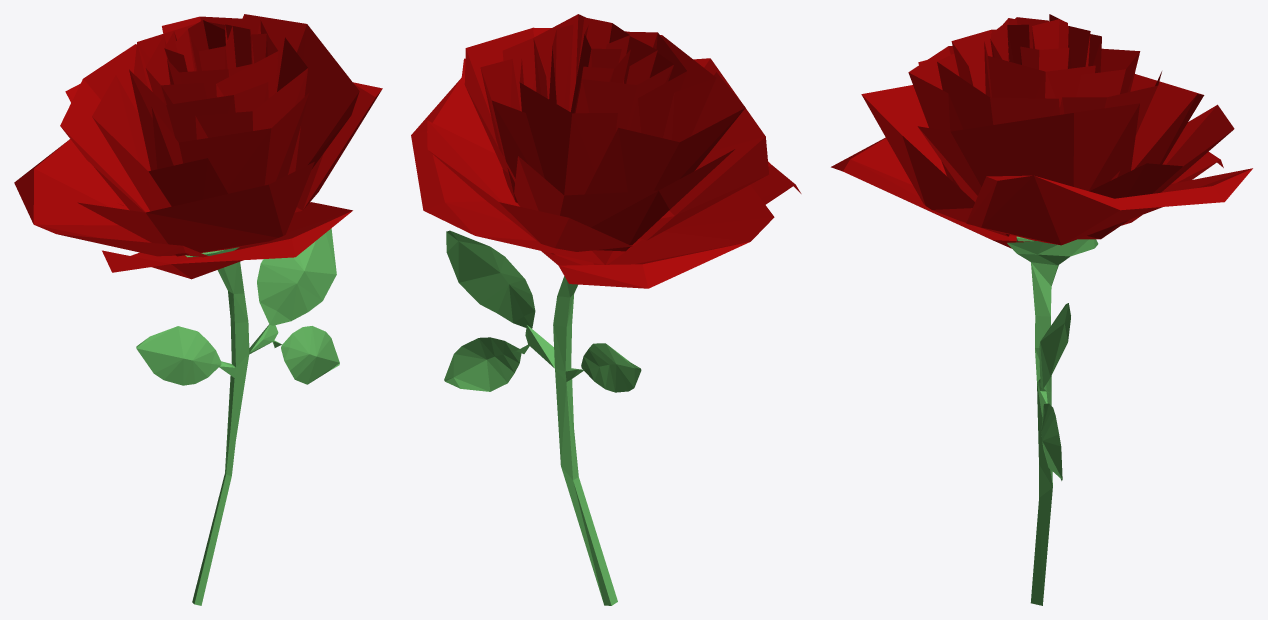
File: rose.glb
3 renders of one model, left to right at view 1: azimuth 30°, elevation 25°; view 2: azimuth 150°, elevation 25°; view 3: azimuth 270°, elevation 25°, orthographic. The views are drawn at different scales.
Visible parts, largest first — view 1: rose pCube4, rose pCube21, rose pCube12, rose pCube6, rose pCube3, rose pCube22 rose_bottom, rose pCube5, rose pCube20, rose rose_bottom pCube23, rose pCube13, rose pCube7, rose rose_bottom pCube25 (+10 smaller); view 2: rose pCube21, rose pCube19, rose pCube6, rose pCube5, rose pCube26, rose pCube8, rose pCube22 rose_bottom, rose pCube4, rose rose_bottom pCube23, rose pCube11, rose rose_bottom pCube24, rose pCube9 (+12 smaller); view 3: rose pCube3, rose pCube19, rose pCube4, rose pCube22 rose_bottom, rose pCube26, rose pCube5, rose pCube7, rose pCube14, rose pCube20, rose pCube12, rose pCube8, rose pCube13 (+9 smaller).
Boxes of the visible parts, x1,y1,x2,y2 form: rose pCube4: (77, 162, 314, 256); rose pCube21: (14, 139, 208, 257); rose pCube12: (151, 92, 309, 193); rose pCube6: (92, 75, 227, 211); rose pCube3: (242, 14, 359, 170); rose pCube22 rose_bottom: (185, 247, 281, 605); rose pCube5: (60, 44, 150, 212); rose pCube20: (102, 202, 352, 279); rose rose_bottom pCube23: (257, 228, 336, 325); rose pCube13: (129, 69, 268, 170); rose pCube7: (195, 37, 307, 174); rose rose_bottom pCube25: (136, 326, 221, 385); rose pCube21: (541, 185, 774, 288); rose pCube19: (411, 58, 612, 264); rose pCube6: (585, 72, 745, 194); rose pCube5: (514, 149, 734, 251); rose pCube26: (427, 120, 632, 254); rose pCube8: (519, 59, 617, 195); rose pCube22 rose_bottom: (516, 276, 617, 605); rose pCube4: (638, 58, 768, 240); rose rose_bottom pCube23: (446, 230, 535, 328); rose pCube11: (480, 59, 544, 202); rose rose_bottom pCube24: (444, 337, 521, 391); rose pCube9: (575, 52, 673, 132); rose pCube3: (917, 103, 1139, 201); rose pCube19: (966, 168, 1252, 245); rose pCube4: (861, 85, 1011, 236); rose pCube22 rose_bottom: (1007, 236, 1098, 605); rose pCube26: (1078, 104, 1234, 239); rose pCube5: (1130, 74, 1204, 170); rose pCube7: (937, 54, 1059, 129); rose pCube14: (984, 41, 1095, 107); rose pCube20: (831, 137, 1029, 248); rose pCube12: (908, 46, 963, 188); rose pCube8: (1076, 48, 1140, 97); rose pCube13: (951, 29, 995, 94).
Bounding box in the file's own units: 26.41 × 45.61 × 29.4.
